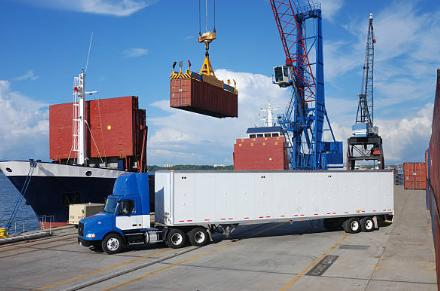vehicle: (78, 170, 396, 254)
